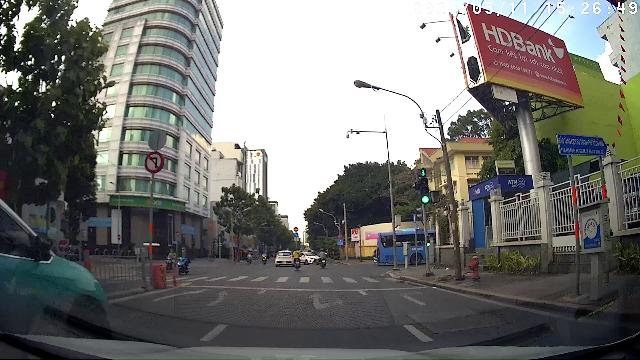123a-cam-re-trai: (144, 152, 164, 174)
